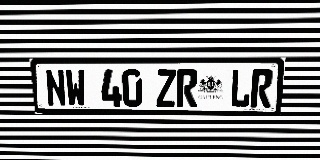0: (121, 69, 142, 107)
4: (101, 69, 122, 107)
L: (230, 69, 252, 107)
N: (44, 69, 67, 106)
R: (250, 69, 273, 107), (177, 69, 198, 107)
W: (65, 69, 87, 107)
Z: (156, 69, 176, 107)
